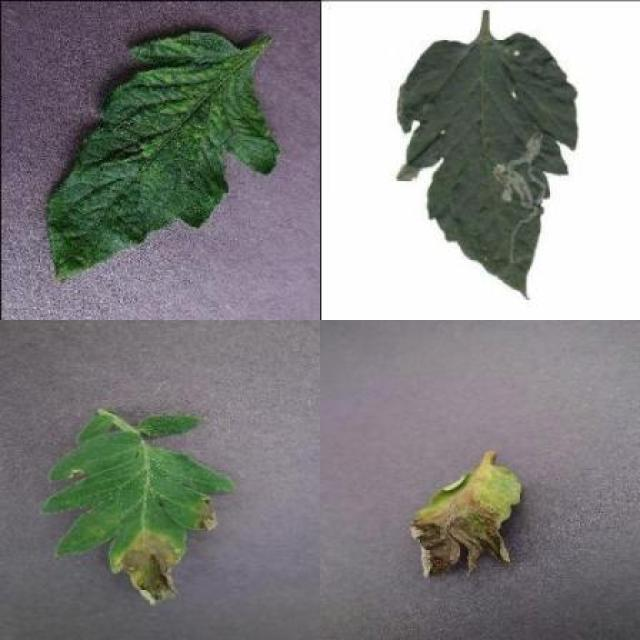Late Blight: (45, 412, 238, 608), (411, 461, 522, 582)
Leaf Miner: (392, 32, 578, 298)
Mosaic Virus: (46, 30, 276, 283)
